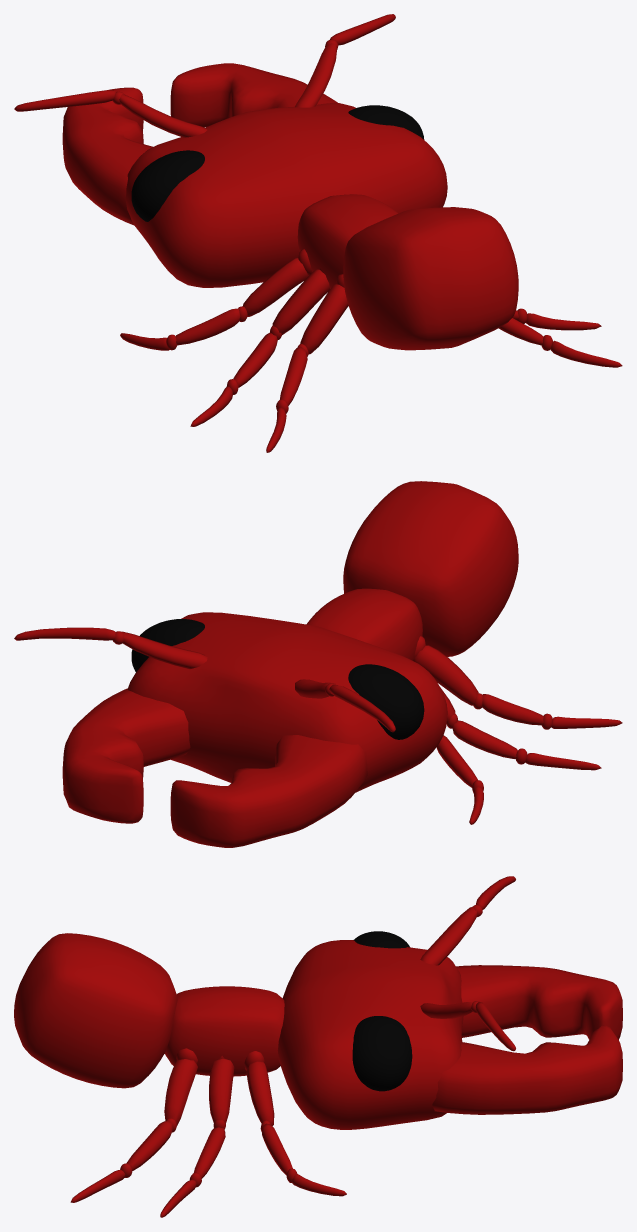
Rendered from Player rouge.fbx.
3 renders of one model, top to bottom at view 1: azimuth 30°, elevation 25°; view 2: azimuth 150°, elevation 25°; view 3: azimuth 270°, elevation 25°, orthographic. The views are drawn at different scales.
Parts seen in each view (by area): view 1: Major rouge; view 2: Major rouge; view 3: Major rouge.
Part boxes in pixels (bbox=[...]): Major rouge: bbox=[14, 14, 622, 452]; Major rouge: bbox=[14, 481, 622, 847]; Major rouge: bbox=[14, 876, 622, 1217].
Size of the model in its own units: 1.78 by 0.8115 by 2.46.
